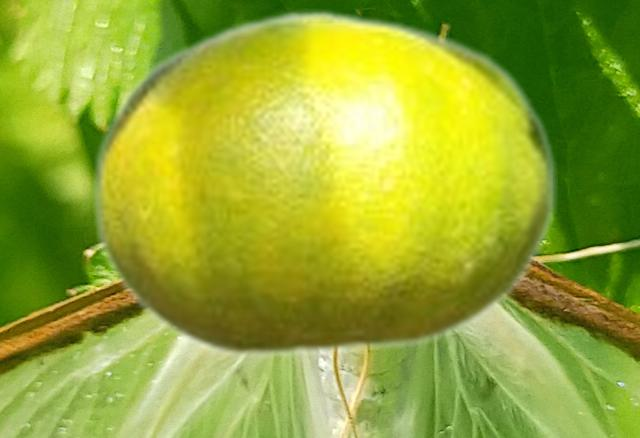dalandan: (90, 8, 556, 360)
